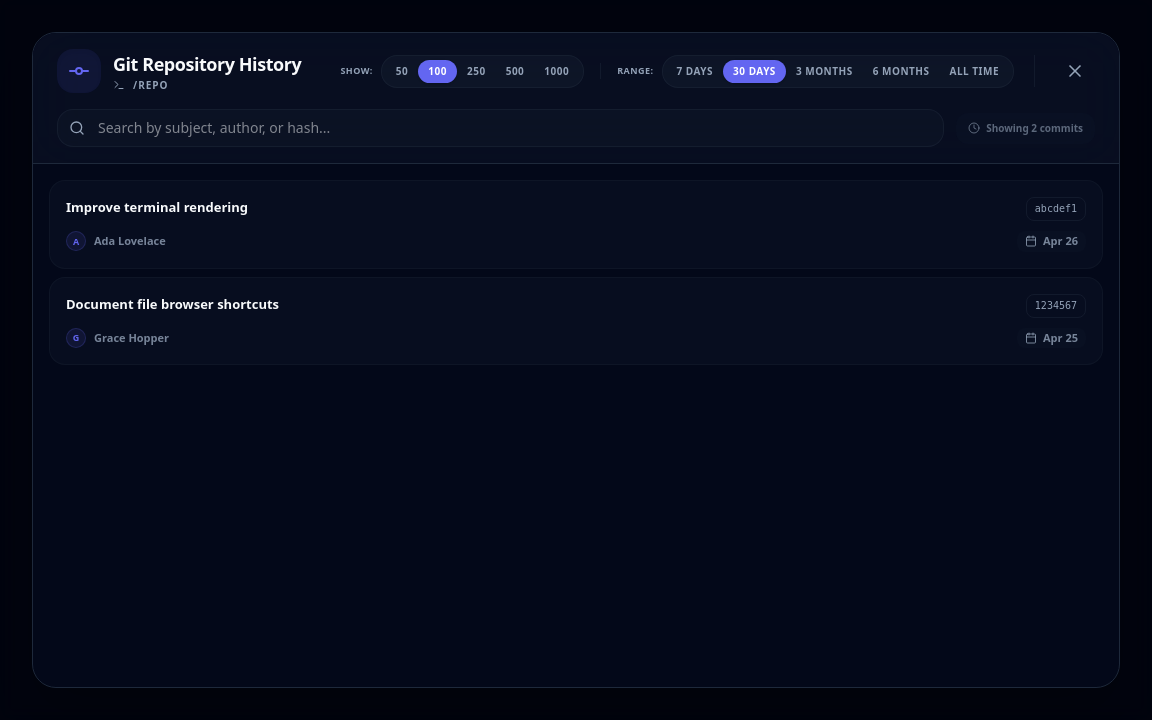
Test: GitHistoryModal › keeps the last verified commits visible when a refreshed history request fails
expect the button with aria-label "view commit abcdef1: Improve terminal rendering" is shown: met, box [49,180,1103,268]
Click the button with aria-label "Show commits from 7 Days" at point(695, 71), box [666,60,723,82]
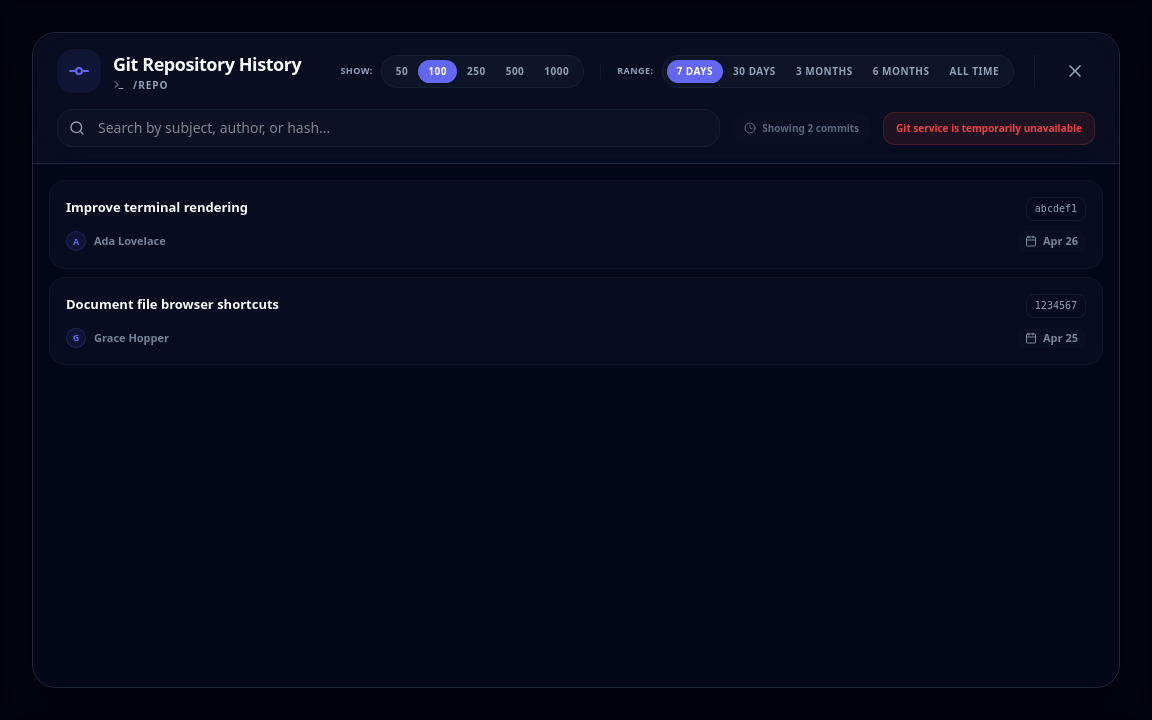
expect the button with aria-label "view commit abcdef1: Improve terminal rendering" is shown: met, box [49,180,1103,268]
expect the text "Git service is temporarily unavailable" is shown: met, box [883,112,1095,144]
